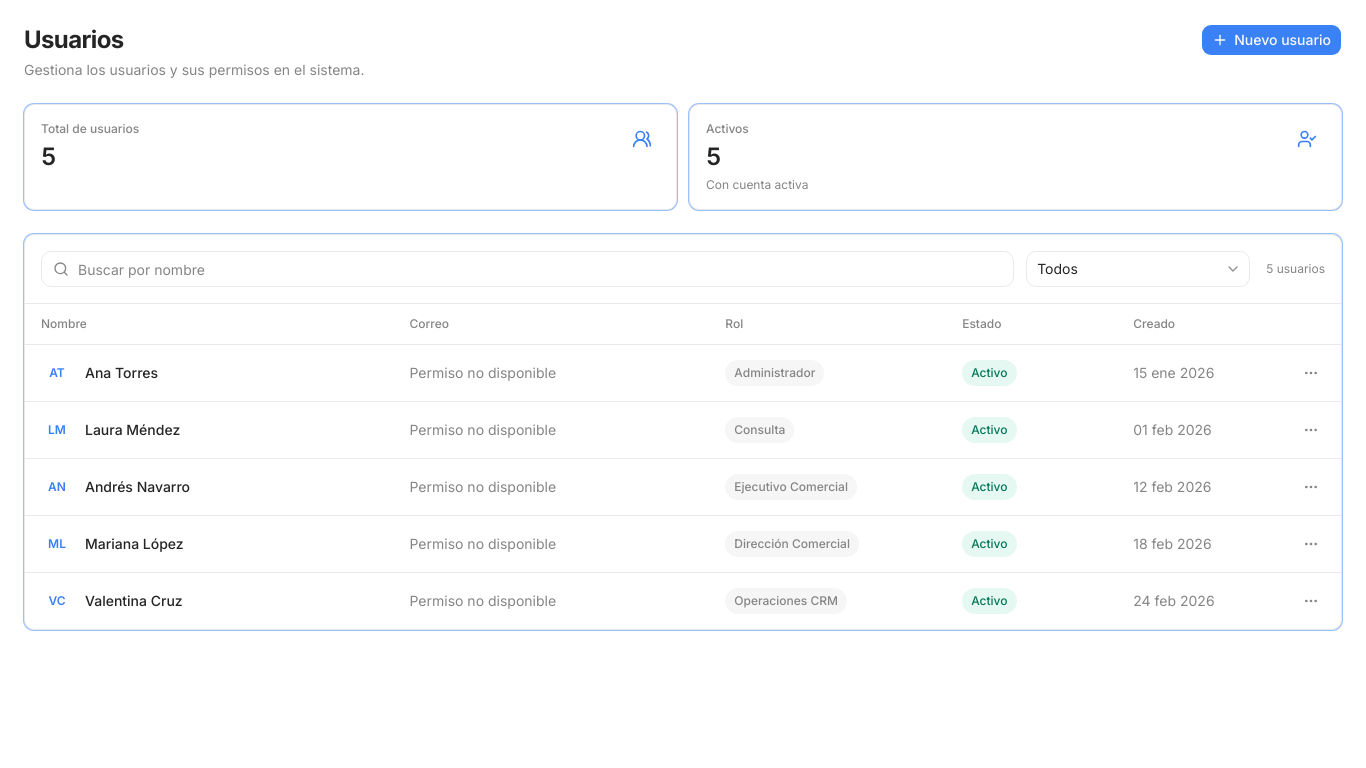
Scenario: UsuariosListPage › abre el diálogo "Nuevo usuario" al hacer click en el botón
The image size is (1366, 768).
Expected: the text "Ana Torres" is shown, [85,363,158,383]
Click the button "Nuevo usuario" at (1272, 40), box [1201,24,1342,56]
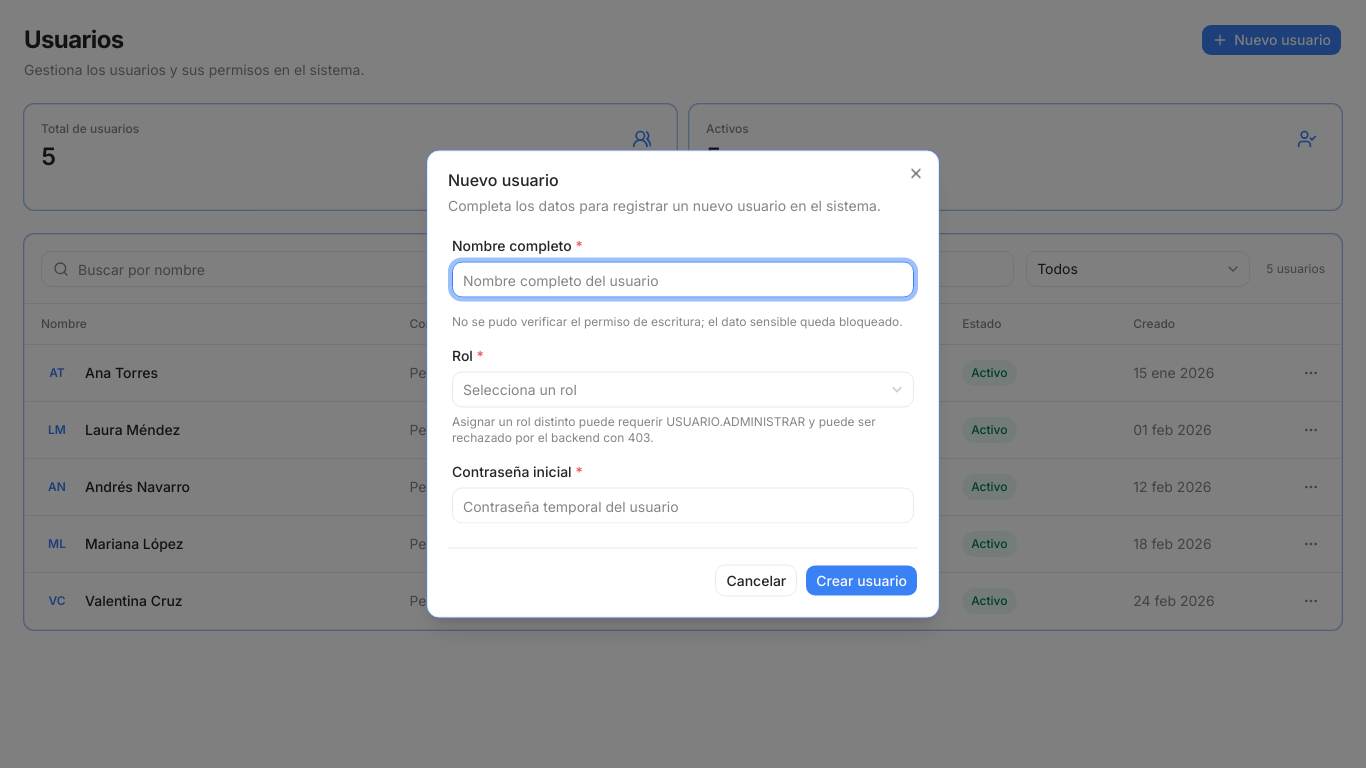
Expected: the heading "Nuevo usuario" is shown, [448,170,559,190]
